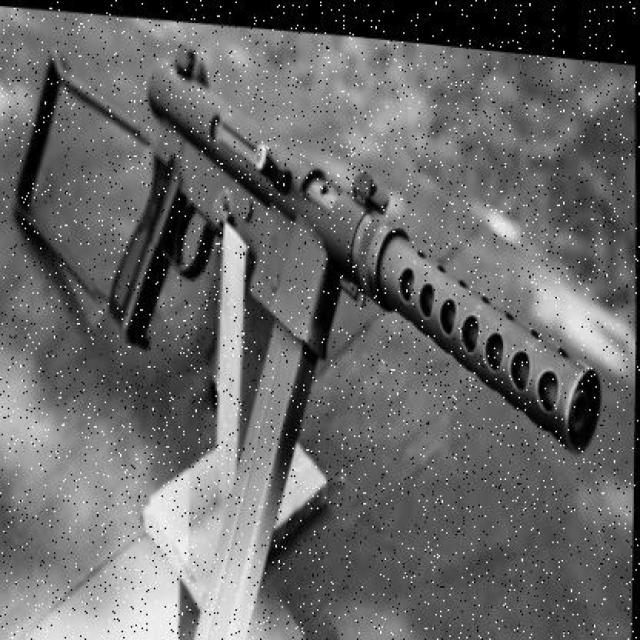weapon: (10, 38, 603, 640)
